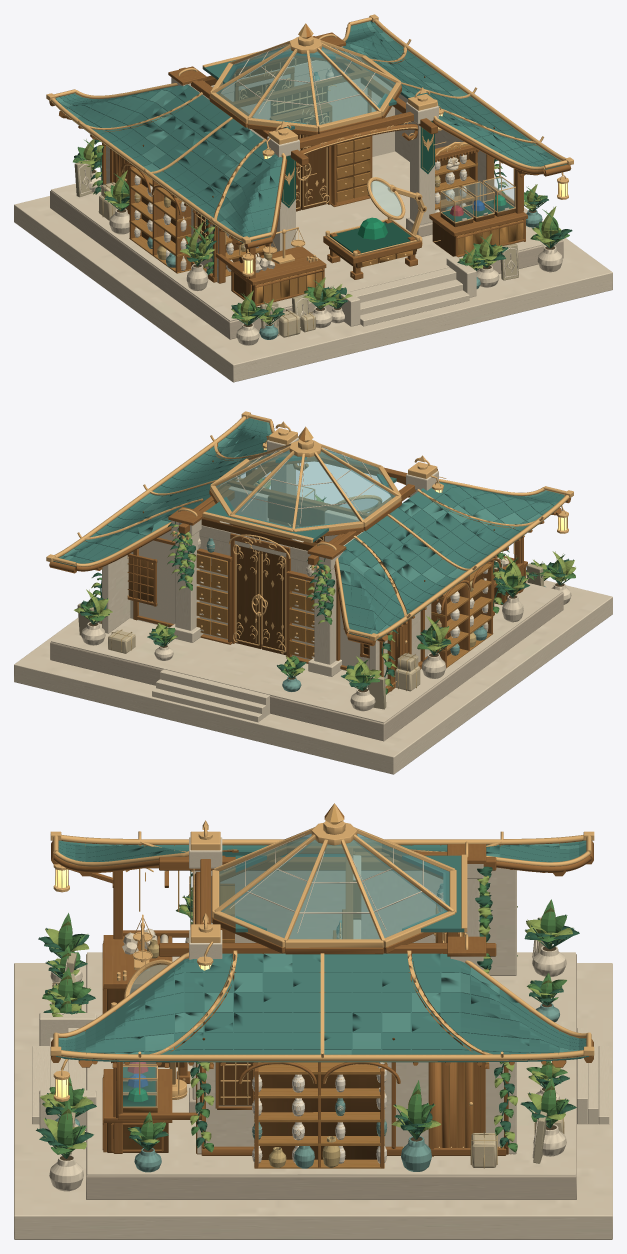
Rendered from appraisal-lod0-371764de41f5.glb.
The picture shows the model from 3 angles, top to bottom: view 1: azimuth 30°, elevation 25°; view 2: azimuth 150°, elevation 25°; view 3: azimuth 270°, elevation 25°; orthographic projection. The views are drawn at different scales.
Parts seen in each view (by area): view 1: SM_APP_MAT_APP_WarmIvory.021, SM_APP_MAT_APP_TealRoof.021, SM_APP_MAT_APP_HoneyTimber.021, SM_APP_MAT_APP_BrassGold_APP_GrandDoorHinge_1.021, SM_APP_MAT_APP_SourceTintCrownGlass, SM_APP_MAT_APP_DrawerWood.021, SM_APP_MAT_APP_Walnut_APP_GrandDoorHinge_1.021, SM_APP_MAT_APP_Limestone.021, SM_APP_MAT_APP_LeafLime.021, SM_APP_MAT_APP_TealRoofAlt.021, SM_APP_MAT_APP_EmeraldVelvet.021, SM_APP_MAT_APP_DisplayGlass.021 (+8 smaller); view 2: SM_APP_MAT_APP_WarmIvory.021, SM_APP_MAT_APP_TealRoof.021, SM_APP_MAT_APP_BrassGold_APP_GrandDoorHinge_1.021, SM_APP_MAT_APP_HoneyTimber.021, SM_APP_MAT_APP_SourceTintCrownGlass, SM_APP_MAT_APP_Walnut_APP_GrandDoorHinge_1.021, SM_APP_MAT_APP_Limestone.021, SM_APP_MAT_APP_DrawerWood.021, SM_APP_MAT_APP_TealRoofAlt.021, SM_APP_MAT_APP_LeafLime.021, SM_APP_MAT_APP_LeafDark.021, SM_APP_MAT_APP_LeafJade.021 (+4 smaller); view 3: SM_APP_MAT_APP_WarmIvory.021, SM_APP_MAT_APP_TealRoof.021, SM_APP_MAT_APP_HoneyTimber.021, SM_APP_MAT_APP_BrassGold_APP_GrandDoorHinge_1.021, SM_APP_MAT_APP_SourceTintCrownGlass, SM_APP_MAT_APP_Limestone.021, SM_APP_MAT_APP_Walnut_APP_GrandDoorHinge_1.021, SM_APP_MAT_APP_DrawerWood.021, SM_APP_MAT_APP_LeafJade.021, SM_APP_MAT_APP_TealRoofAlt.021, SM_APP_MAT_APP_LeafDark.021, SM_APP_MAT_APP_LeafLime.021 (+7 smaller).
Boxes of the visible parts, x1=… form: SM_APP_MAT_APP_WarmIvory.021: x1=14, y1=44, x2=612, y2=382; SM_APP_MAT_APP_TealRoof.021: x1=53, y1=21, x2=566, y2=243; SM_APP_MAT_APP_HoneyTimber.021: x1=49, y1=27, x2=571, y2=307; SM_APP_MAT_APP_BrassGold_APP_GrandDoorHinge_1.021: x1=46, y1=14, x2=573, y2=276; SM_APP_MAT_APP_SourceTintCrownGlass: x1=216, y1=44, x2=395, y2=125; SM_APP_MAT_APP_DrawerWood.021: x1=129, y1=136, x2=523, y2=303; SM_APP_MAT_APP_Walnut_APP_GrandDoorHinge_1.021: x1=141, y1=58, x2=515, y2=302; SM_APP_MAT_APP_Limestone.021: x1=50, y1=191, x2=563, y2=339; SM_APP_MAT_APP_LeafLime.021: x1=78, y1=139, x2=560, y2=324; SM_APP_MAT_APP_TealRoofAlt.021: x1=55, y1=21, x2=545, y2=232; SM_APP_MAT_APP_EmeraldVelvet.021: x1=281, y1=121, x2=513, y2=253; SM_APP_MAT_APP_DisplayGlass.021: x1=441, y1=177, x2=514, y2=221; SM_APP_MAT_APP_WarmIvory.021: x1=14, y1=437, x2=612, y2=774; SM_APP_MAT_APP_TealRoof.021: x1=53, y1=418, x2=566, y2=640; SM_APP_MAT_APP_BrassGold_APP_GrandDoorHinge_1.021: x1=46, y1=411, x2=573, y2=688; SM_APP_MAT_APP_HoneyTimber.021: x1=49, y1=423, x2=570, y2=693; SM_APP_MAT_APP_SourceTintCrownGlass: x1=216, y1=448, x2=395, y2=528; SM_APP_MAT_APP_Walnut_APP_GrandDoorHinge_1.021: x1=101, y1=460, x2=524, y2=660; SM_APP_MAT_APP_Limestone.021: x1=50, y1=592, x2=563, y2=741; SM_APP_MAT_APP_DrawerWood.021: x1=196, y1=554, x2=493, y2=667; SM_APP_MAT_APP_TealRoofAlt.021: x1=63, y1=422, x2=547, y2=634; SM_APP_MAT_APP_LeafLime.021: x1=74, y1=478, x2=575, y2=689; SM_APP_MAT_APP_LeafDark.021: x1=80, y1=478, x2=575, y2=690; SM_APP_MAT_APP_LeafJade.021: x1=80, y1=497, x2=575, y2=694; SM_APP_MAT_APP_WarmIvory.021: x1=14, y1=834, x2=612, y2=1239; SM_APP_MAT_APP_TealRoof.021: x1=56, y1=840, x2=588, y2=1062; SM_APP_MAT_APP_HoneyTimber.021: x1=51, y1=841, x2=593, y2=1168; SM_APP_MAT_APP_BrassGold_APP_GrandDoorHinge_1.021: x1=50, y1=803, x2=594, y2=1161; SM_APP_MAT_APP_SourceTintCrownGlass: x1=219, y1=833, x2=449, y2=939; SM_APP_MAT_APP_Limestone.021: x1=86, y1=954, x2=576, y2=1199; SM_APP_MAT_APP_Walnut_APP_GrandDoorHinge_1.021: x1=107, y1=880, x2=507, y2=1159; SM_APP_MAT_APP_DrawerWood.021: x1=111, y1=886, x2=488, y2=1168; SM_APP_MAT_APP_LeafJade.021: x1=42, y1=884, x2=569, y2=1157; SM_APP_MAT_APP_TealRoofAlt.021: x1=58, y1=842, x2=586, y2=1054; SM_APP_MAT_APP_LeafDark.021: x1=36, y1=866, x2=579, y2=1158; SM_APP_MAT_APP_LeafLime.021: x1=40, y1=875, x2=572, y2=1152.
Size of the model in its own units: 10 by 5.72 by 10.
Materials: 29 (6 with a texture image).
